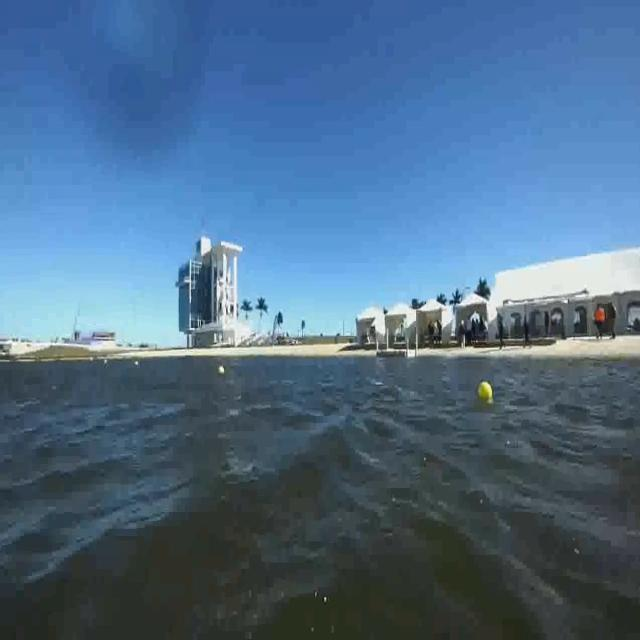yellow-buoy: (479, 380, 494, 399)
